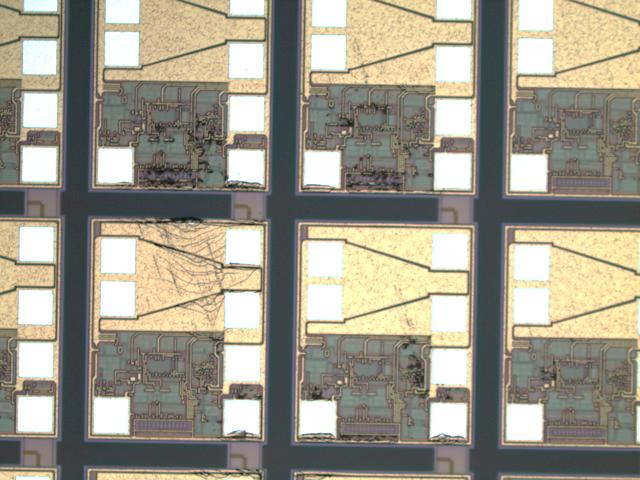SCRATCH: (116, 160, 417, 342)
